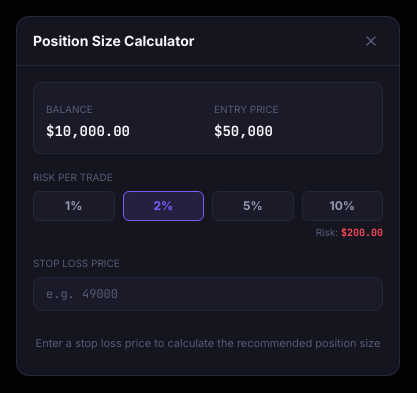
Test: PositionSizeCalculator › clicking 5% updates risk amount display
Click the button "5%" at point(253, 206), box [212,191,294,221]
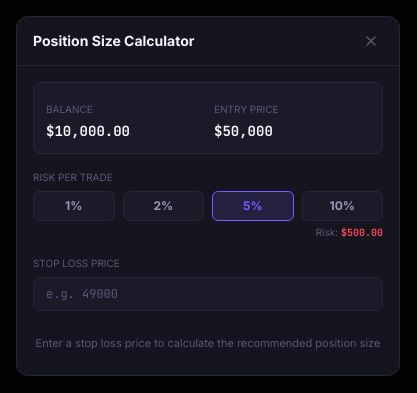
Now the text "$500.00" is shown, box [341,226,383,239]
